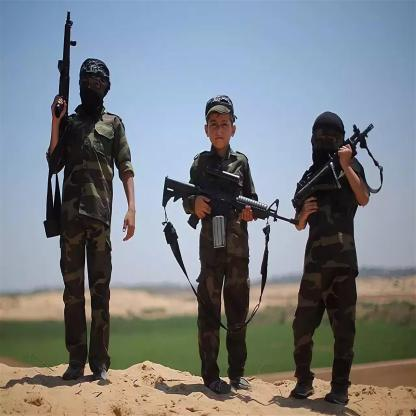rifle: (160, 167, 300, 252), (291, 119, 376, 214), (53, 8, 74, 132)
